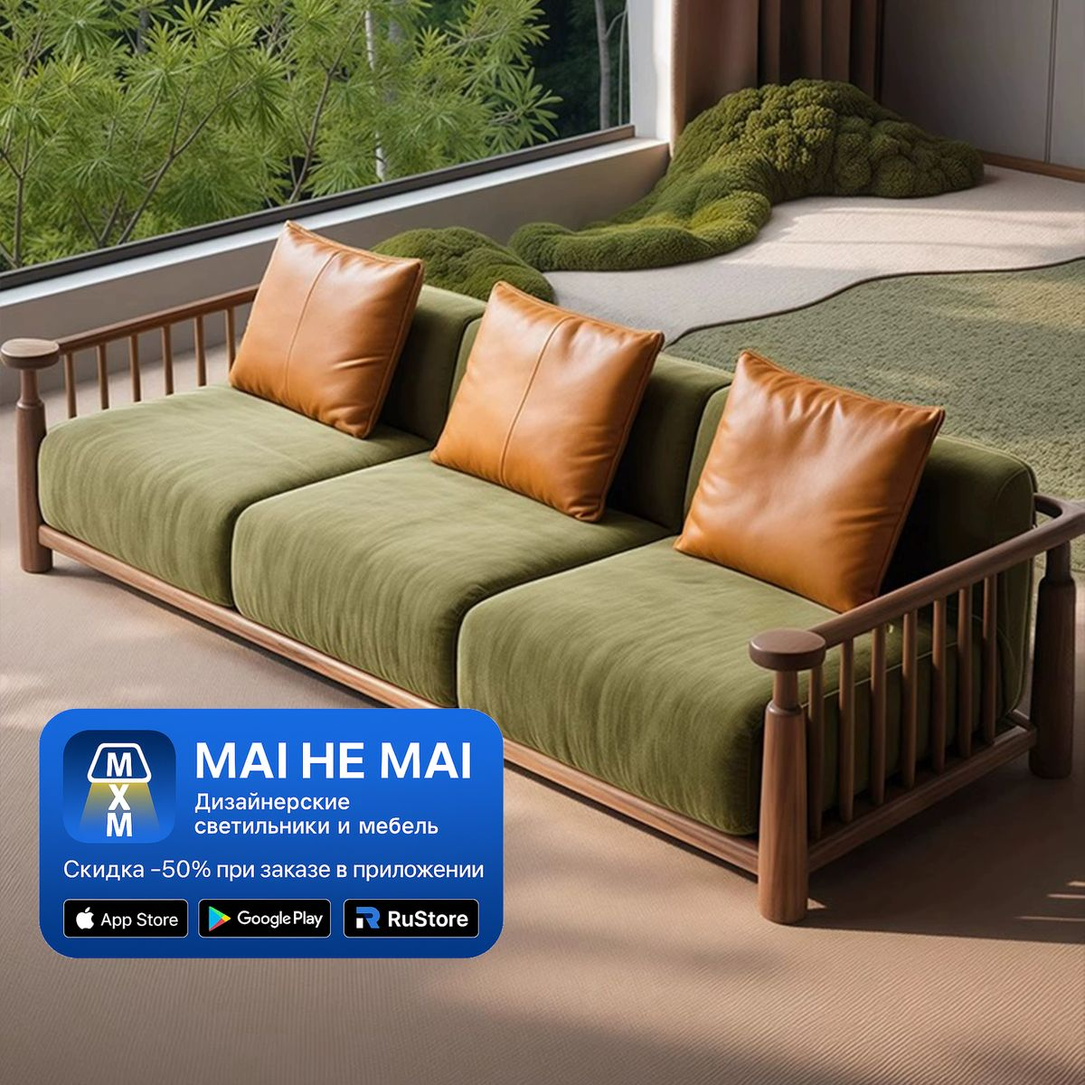3seatersofa: (3, 222, 1084, 921)
backrest: (882, 439, 1034, 590), (608, 353, 730, 533), (381, 288, 480, 444), (999, 571, 1027, 687)
base: (39, 526, 437, 706), (505, 738, 757, 873), (836, 734, 1033, 854), (813, 841, 837, 868)
leftarmrest: (749, 497, 1085, 870)
leg: (1030, 542, 1074, 778), (5, 363, 51, 571)
pillow: (677, 353, 943, 609), (433, 282, 661, 520), (231, 224, 420, 435)
rightarmrest: (0, 285, 255, 416)
seat: (41, 386, 824, 834)
